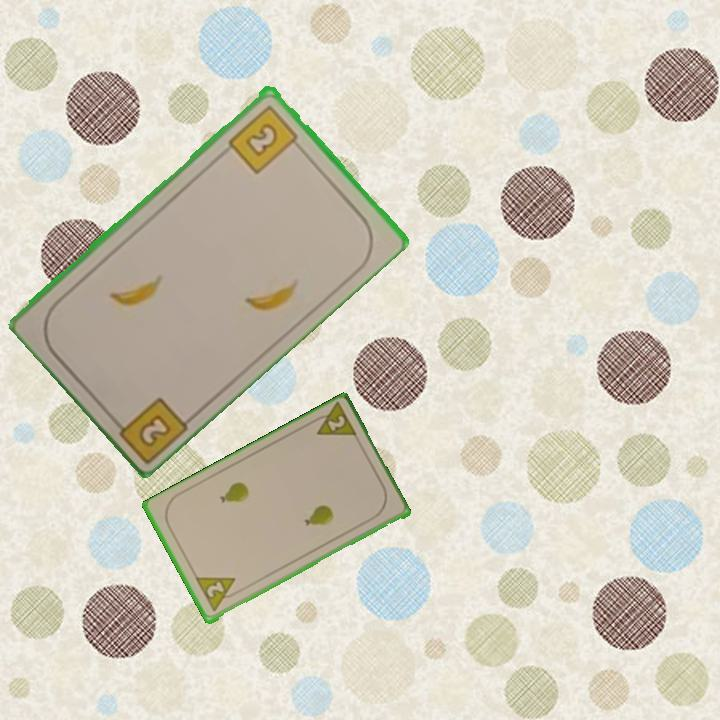2b: (106, 392, 192, 463), (224, 101, 305, 176)
2p: (306, 400, 360, 442), (192, 573, 243, 615)
